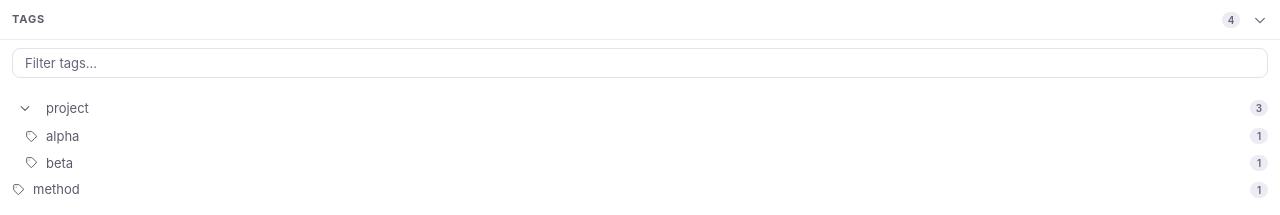
TagPanel › narrows the tree with the filter, ignoring the collapse state
Click the button named "Collapse project" at (25, 108), box x1=12 y1=97 x2=38 y2=120
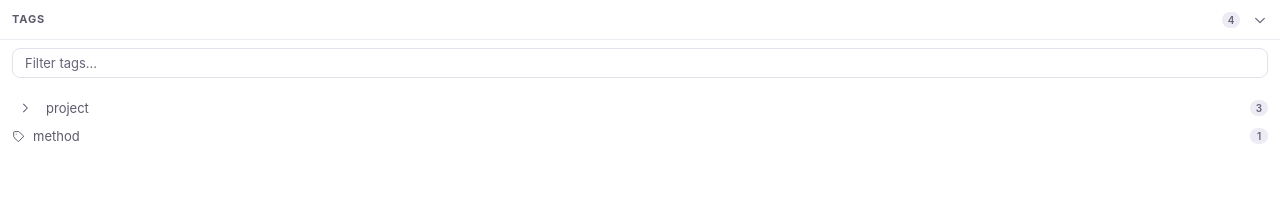
Type "alpha" into the field labelled "Filter tags" at (640, 63), box x1=12 y1=48 x2=1268 y2=78
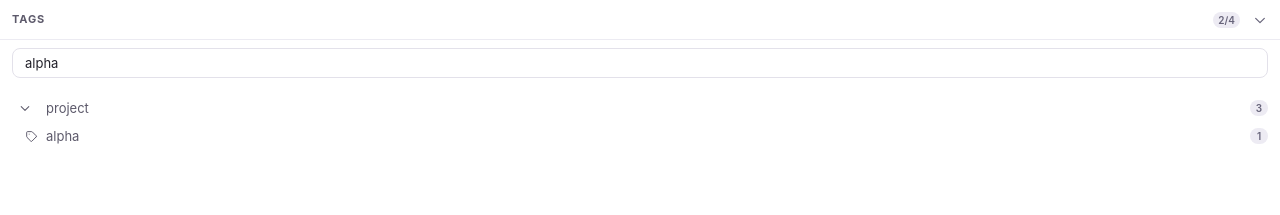
Now the text with class "tag-count" reads "2/4", box x1=1218 y1=14 x2=1235 y2=26
